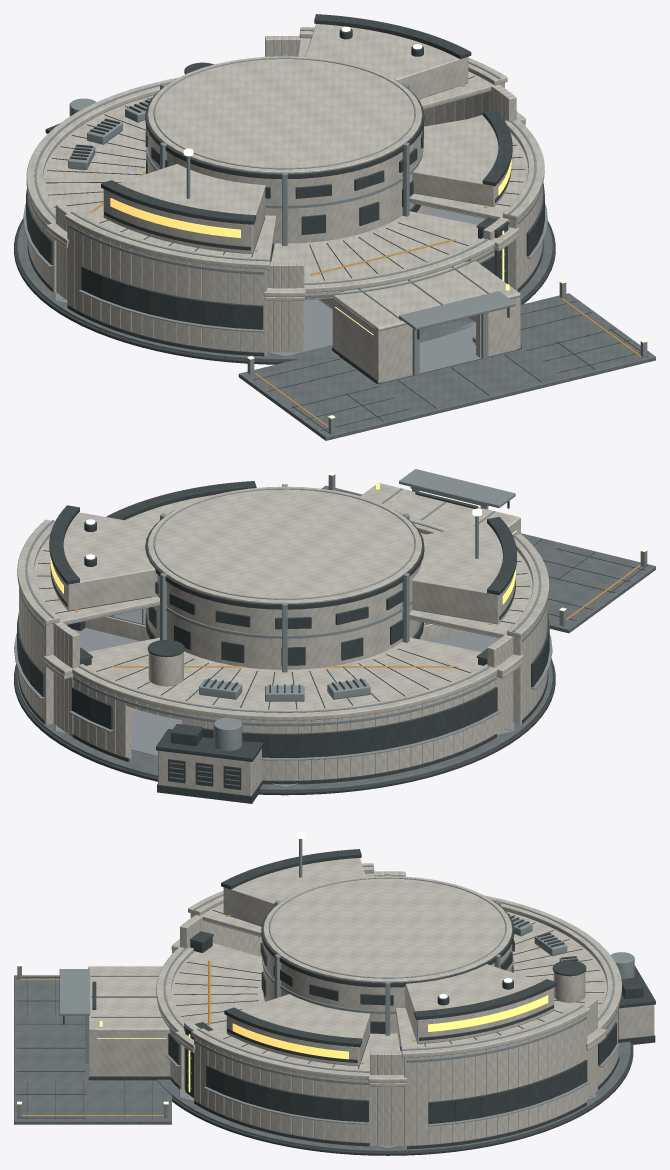
File: hq-shell.a3eb27a5ff3d.glb
3 renders of one model, top to bottom at view 1: azimuth 30°, elevation 25°; view 2: azimuth 150°, elevation 25°; view 3: azimuth 270°, elevation 25°, orthographic. The views are drawn at different scales.
Parts seen in each view (by area): view 1: MF_Roof__structure_ivory_ceramic, MF_Court__court_weathered_basalt, MF_BaseFixed__structure_ivory_ceramic, MF_ShellCutaway_FrontFlats__structure_ivory_ceramic, MF_Roof__structure_graphite_joints, MF_BaseFixed__structure_graphite_joints, MF_Roof__brushed_titanium, MF_BaseFixed__court_weathered_basalt, MF_BaseFixed__brushed_titanium, MF_ShellCutaway_FrontFlats__brushed_titanium, MF_Interior_dispatch__room_inlay_dispatch, MF_Court__structure_graphite_joints (+3 smaller); view 2: MF_Roof__structure_ivory_ceramic, MF_BaseFixed__structure_ivory_ceramic, MF_BaseFixed__structure_graphite_joints, MF_Roof__structure_graphite_joints, MF_Roof__brushed_titanium, MF_Court__court_weathered_basalt, MF_BaseFixed__brushed_titanium, MF_ShellCutaway_FrontFlats__structure_ivory_ceramic, MF_BaseFixed__court_weathered_basalt, MF_Interior_implementation__room_inlay_implementation, MF_Interior_review__room_inlay_review, MF_Interior_planning__room_inlay_planning (+2 smaller); view 3: MF_Roof__structure_ivory_ceramic, MF_BaseFixed__structure_ivory_ceramic, MF_ShellCutaway_FrontFlats__structure_ivory_ceramic, MF_Court__court_weathered_basalt, MF_Roof__structure_graphite_joints, MF_BaseFixed__structure_graphite_joints, MF_Roof__brushed_titanium, MF_ShellCutaway_FrontFlats__structure_graphite_joints, MF_BaseFixed__court_weathered_basalt, MF_BaseFixed__brushed_titanium, MF_ShellCutaway_FrontFlats__brushed_titanium, MF_Roof__practical_warm_window_glass (+1 smaller).
Boxes of the visible parts, box(x1,y1,x2,y2) form: MF_Roof__structure_ivory_ceramic: box(43, 24, 528, 330); MF_Court__court_weathered_basalt: box(238, 293, 655, 440); MF_BaseFixed__structure_ivory_ceramic: box(26, 27, 507, 355); MF_ShellCutaway_FrontFlats__structure_ivory_ceramic: box(55, 36, 544, 382); MF_Roof__structure_graphite_joints: box(46, 14, 525, 339); MF_BaseFixed__structure_graphite_joints: box(14, 123, 555, 384); MF_Roof__brushed_titanium: box(68, 53, 515, 330); MF_BaseFixed__court_weathered_basalt: box(17, 221, 552, 360); MF_BaseFixed__brushed_titanium: box(23, 29, 505, 332); MF_ShellCutaway_FrontFlats__brushed_titanium: box(304, 120, 547, 375); MF_Interior_dispatch__room_inlay_dispatch: box(382, 321, 516, 382); MF_Court__structure_graphite_joints: box(252, 301, 648, 434); MF_Roof__structure_ivory_ceramic: box(33, 483, 532, 709); MF_BaseFixed__structure_ivory_ceramic: box(17, 519, 549, 795); MF_BaseFixed__structure_graphite_joints: box(14, 613, 555, 803); MF_Roof__structure_graphite_joints: box(37, 481, 529, 745); MF_Roof__brushed_titanium: box(52, 469, 515, 751); MF_Court__court_weathered_basalt: box(321, 485, 655, 633); MF_BaseFixed__brushed_titanium: box(14, 520, 552, 786); MF_ShellCutaway_FrontFlats__structure_ivory_ceramic: box(53, 517, 520, 736); MF_BaseFixed__court_weathered_basalt: box(17, 663, 552, 790); MF_Interior_implementation__room_inlay_implementation: box(58, 711, 510, 787); MF_Interior_review__room_inlay_review: box(56, 628, 139, 730); MF_Interior_planning__room_inlay_planning: box(429, 631, 513, 730); MF_Roof__structure_ivory_ceramic: box(88, 858, 606, 1086); MF_BaseFixed__structure_ivory_ceramic: box(188, 863, 654, 1148); MF_ShellCutaway_FrontFlats__structure_ivory_ceramic: box(88, 871, 597, 1146); MF_Court__court_weathered_basalt: box(14, 975, 171, 1124); MF_Roof__structure_graphite_joints: box(63, 849, 643, 1069); MF_BaseFixed__structure_graphite_joints: box(88, 931, 655, 1155); MF_Roof__brushed_titanium: box(59, 839, 634, 1058); MF_ShellCutaway_FrontFlats__structure_graphite_joints: box(89, 981, 369, 1146); MF_BaseFixed__court_weathered_basalt: box(157, 1041, 630, 1151); MF_BaseFixed__brushed_titanium: box(187, 865, 620, 1126); MF_ShellCutaway_FrontFlats__brushed_titanium: box(85, 947, 369, 1124); MF_Roof__practical_warm_window_glass: box(232, 995, 548, 1059).
Bounding box in the file's own units: 35.5 × 12.31 × 46.37.
19 materials, 3 textured.
